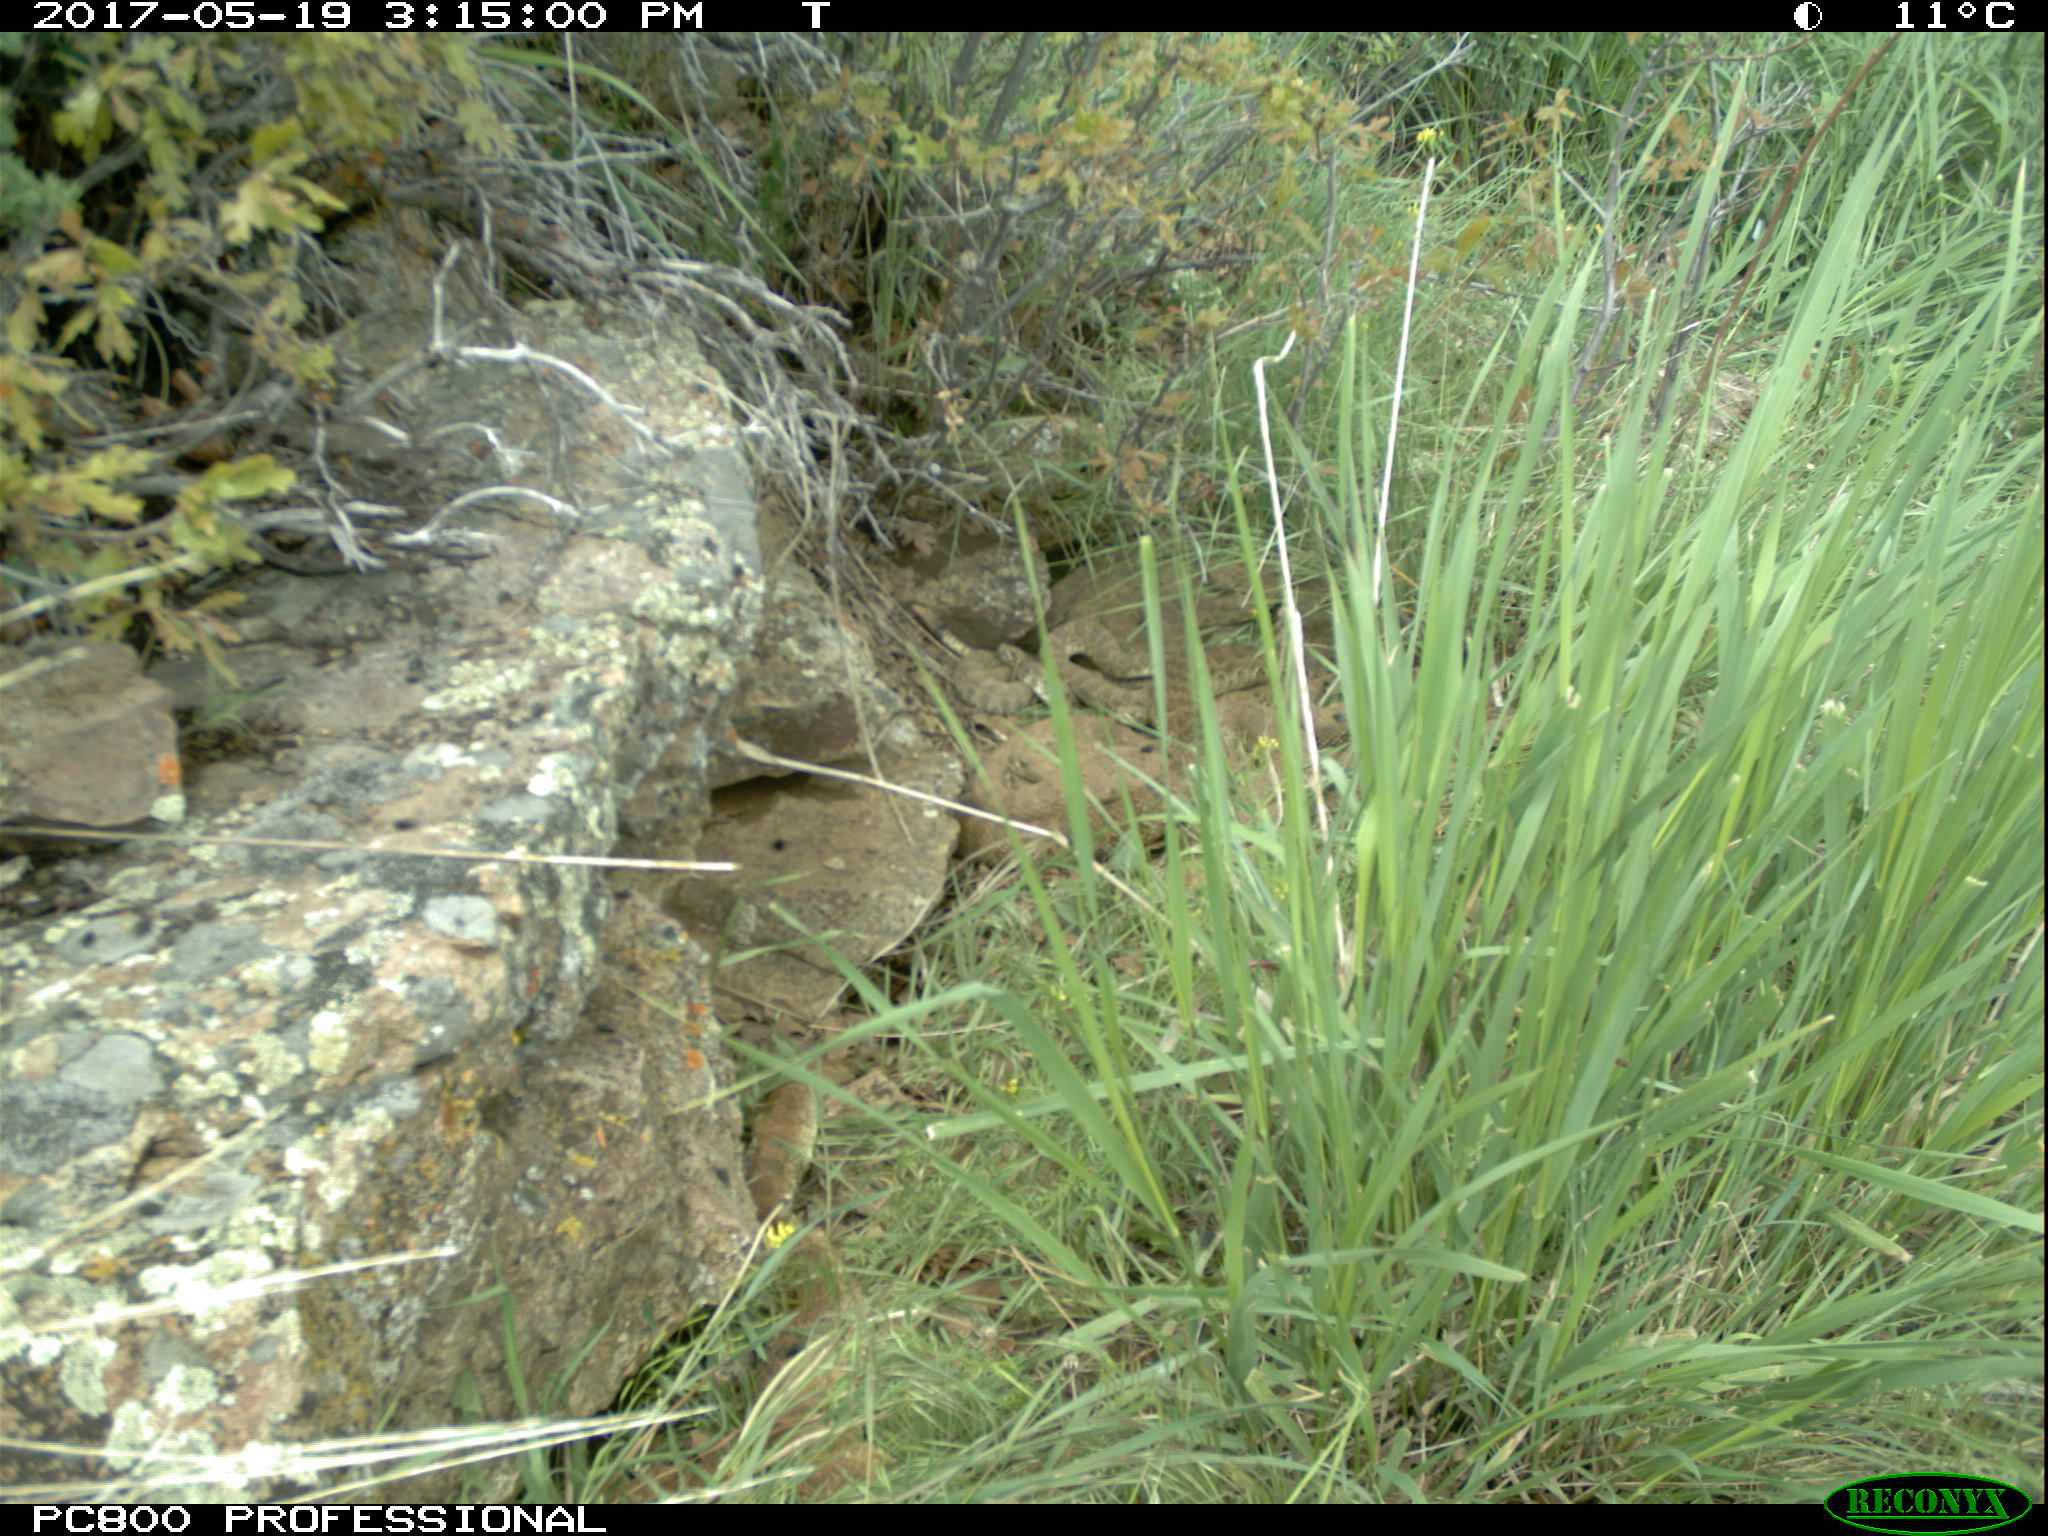snake: (735, 1058, 887, 1478), (953, 712, 1187, 879), (955, 618, 1166, 716), (1205, 687, 1287, 779), (1176, 641, 1274, 694)
